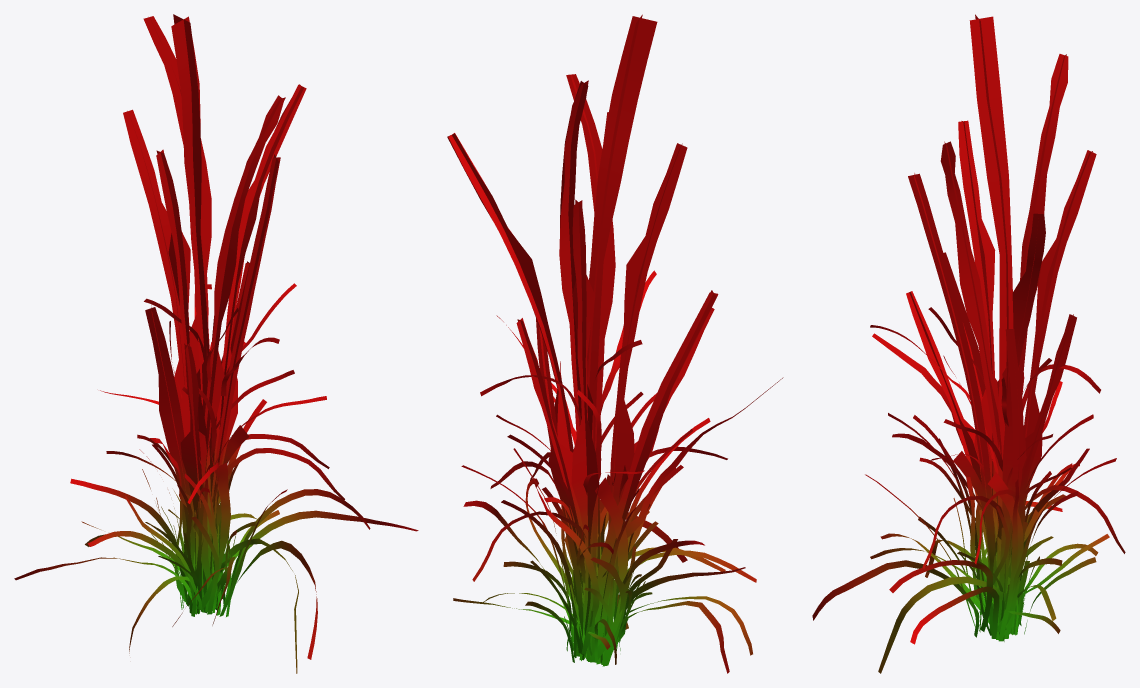
The model's file is slBiJ_Var4_LOD0.fbx.
The picture shows the model from 3 angles, left to right: view 1: azimuth 30°, elevation 25°; view 2: azimuth 150°, elevation 25°; view 3: azimuth 270°, elevation 25°; orthographic projection. The views are drawn at different scales.
Visible parts, largest first — view 1: _948f_Var4_LOD0; view 2: _948f_Var4_LOD0; view 3: _948f_Var4_LOD0.
Boxes of the visible parts, left/top/right/bottom form: _948f_Var4_LOD0: left=14, top=14, right=418, bottom=673; _948f_Var4_LOD0: left=447, top=14, right=783, bottom=673; _948f_Var4_LOD0: left=812, top=14, right=1125, bottom=673.
Size of the model in its own units: 48.52 by 89.72 by 40.75.
